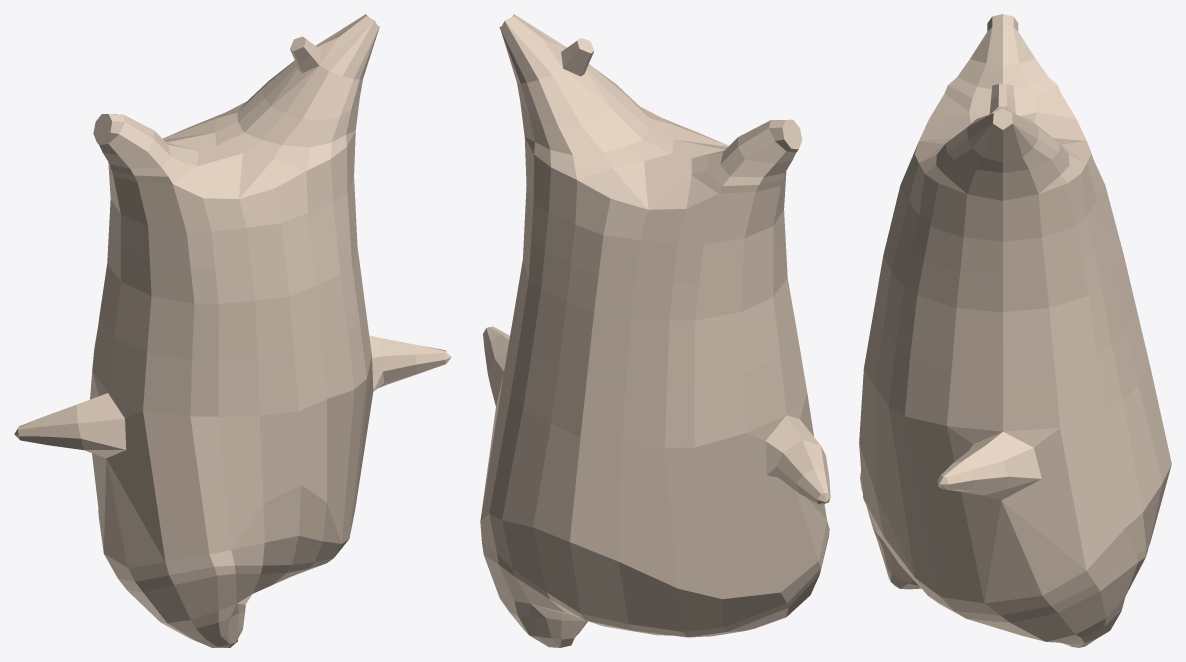
File: frame_0017.obj
3 views of the same model, side by side, from view 1: azimuth 30°, elevation 25°; view 2: azimuth 150°, elevation 25°; view 3: azimuth 270°, elevation 25° (orthographic). The views are drawn at different scales.
Parts seen in each view (by area): view 1: korok; view 2: korok; view 3: korok.
Boxes of the visible parts, <box> form: korok: <box>14,14,451,647</box>; korok: <box>480,14,830,647</box>; korok: <box>859,14,1171,647</box>.
Size of the model in its own units: 1.53 by 2.13 by 1.05.
